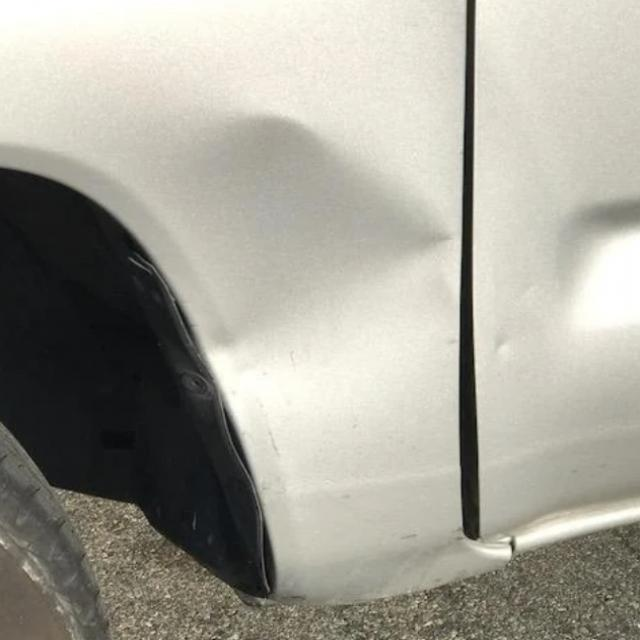dents: (178, 96, 466, 391), (556, 200, 640, 342)
